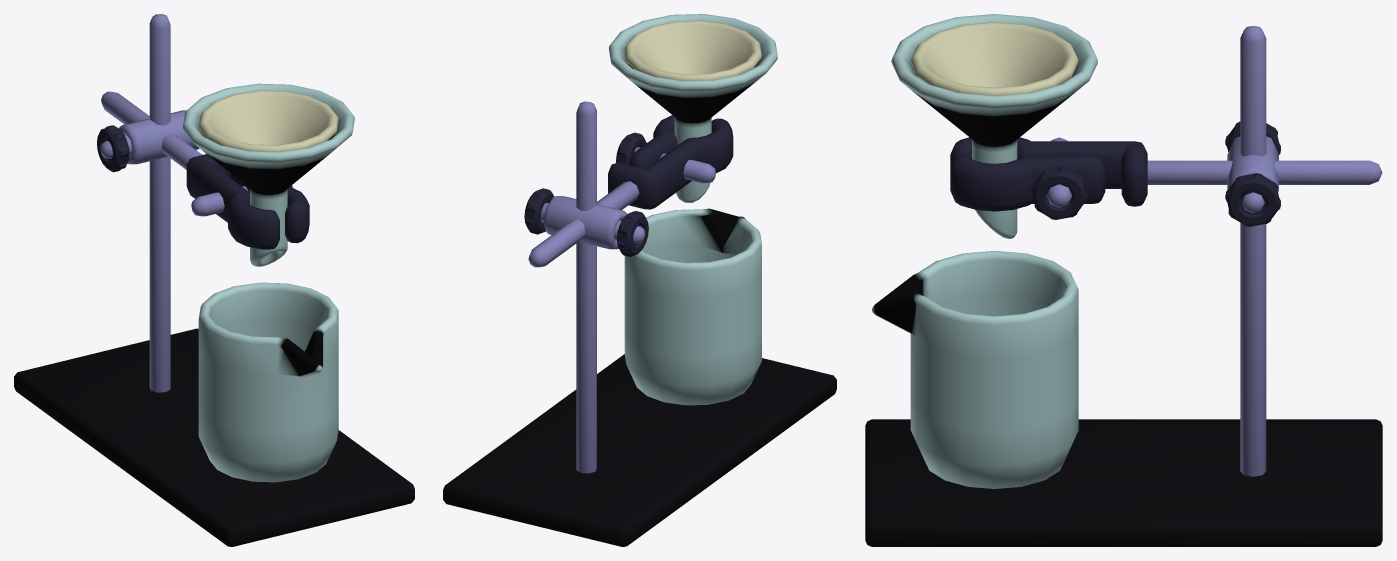
File: LastLuna_Model_Station_Desalter.fbx
3 renders of one model, left to right at view 1: azimuth 30°, elevation 25°; view 2: azimuth 150°, elevation 25°; view 3: azimuth 270°, elevation 25°, orthographic. The views are drawn at different scales.
Visible parts, largest first — view 1: Stand_Base001, Beaker001, Funnel001, Stand_Pole001, Filter001, Stand_Arm_Clamp_Base001, Stand_Fixture001, Stand_Arm_Clamp001, Stand_Arm_Clamp_001, Stand_Fixture_Handle001, Stand_Arm_Fixture_Clamp001; view 2: Stand_Base001, Beaker001, Funnel001, Stand_Pole001, Filter001, Stand_Arm_Clamp_Base001, Stand_Fixture001, Stand_Arm_Clamp001, Stand_Fixture_Handle001, Stand_Arm_Clamp_001, Stand_Arm_Fixture_Clamp001, Stand_Arm_Fixture_Clamp_Handle001; view 3: Stand_Base001, Beaker001, Funnel001, Stand_Pole001, Filter001, Stand_Arm_Clamp_001, Stand_Arm_Clamp001, Stand_Arm_Clamp_Base001, Stand_Fixture_Handle001, Stand_Arm_Fixture_Clamp_Handle001, Stand_Fixture001.
Part boxes in pixels (<box>): Stand_Base001: <box>14,328,414,546</box>; Beaker001: <box>198,282,338,482</box>; Funnel001: <box>182,83,354,266</box>; Stand_Pole001: <box>149,14,170,392</box>; Filter001: <box>199,90,338,151</box>; Stand_Arm_Clamp_Base001: <box>186,154,279,249</box>; Stand_Fixture001: <box>100,110,199,164</box>; Stand_Arm_Clamp001: <box>101,91,202,169</box>; Stand_Arm_Clamp_001: <box>230,173,309,243</box>; Stand_Fixture_Handle001: <box>97,125,129,172</box>; Stand_Arm_Fixture_Clamp001: <box>191,186,248,216</box>; Stand_Base001: <box>443,354,836,546</box>; Beaker001: <box>624,208,761,405</box>; Funnel001: <box>608,14,777,202</box>; Stand_Pole001: <box>576,101,596,473</box>; Filter001: <box>624,20,761,80</box>; Stand_Arm_Clamp_Base001: <box>608,118,733,209</box>; Stand_Fixture001: <box>540,196,645,249</box>; Stand_Arm_Clamp001: <box>528,181,639,267</box>; Stand_Fixture_Handle001: <box>524,188,648,256</box>; Stand_Arm_Clamp_001: <box>630,115,677,168</box>; Stand_Arm_Fixture_Clamp001: <box>634,147,715,183</box>; Stand_Arm_Fixture_Clamp_Handle001: <box>616,132,646,165</box>; Stand_Base001: <box>865,419,1382,546</box>; Beaker001: <box>872,250,1078,488</box>; Funnel001: <box>891,14,1097,238</box>; Stand_Pole001: <box>1240,26,1266,476</box>; Filter001: <box>910,22,1078,95</box>; Stand_Arm_Clamp_001: <box>950,156,1105,211</box>; Stand_Arm_Clamp001: <box>1147,160,1382,184</box>; Stand_Arm_Clamp_Base001: <box>950,137,1147,206</box>; Stand_Fixture_Handle001: <box>1225,121,1280,226</box>; Stand_Arm_Fixture_Clamp_Handle001: <box>1031,166,1087,219</box>; Stand_Fixture001: <box>1227,136,1278,213</box>.
Bounding box in the file's own units: 100 × 200 × 200.
